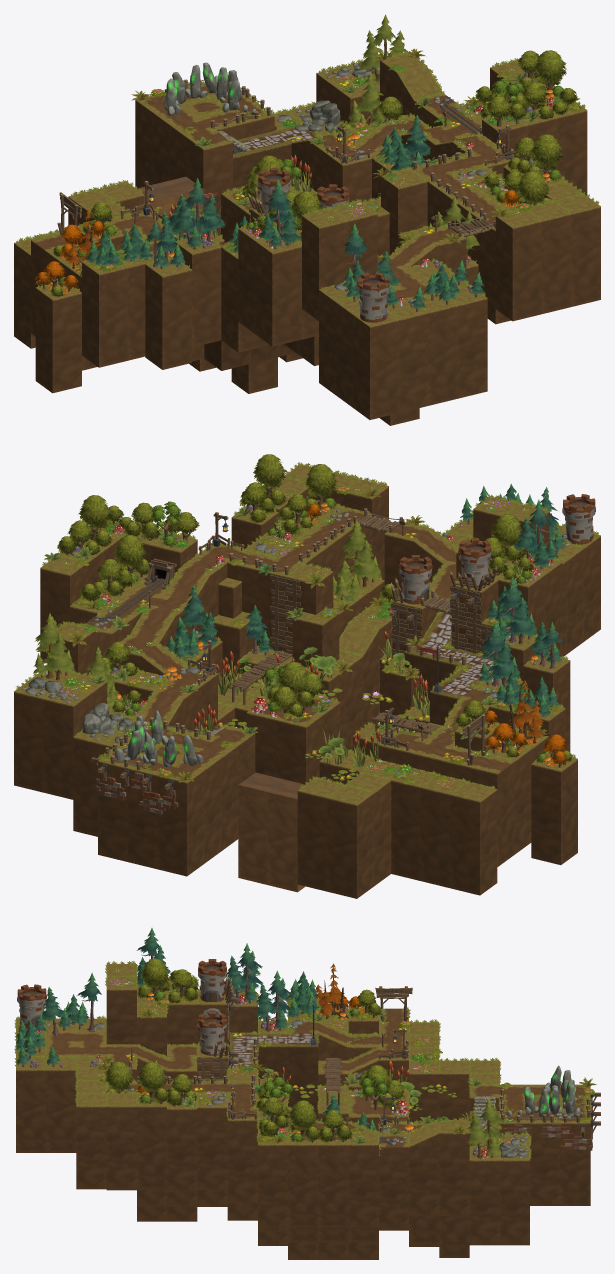
File: cenaPrincipal.glb
3 renders of one model, top to bottom at view 1: azimuth 30°, elevation 25°; view 2: azimuth 150°, elevation 25°; view 3: azimuth 270°, elevation 25°, orthographic. The views are drawn at different scales.
Visible parts, largest first — view 1: Tile_1_A.078, Tile_1_A.154, Tile_1_A.144, Tile_1_A.161, Tile_1_A.159, Tile_1_A.006, Tile_1_A.087, Tile_1_A.128, Tile_1_A.127, Tile_1_A.003, Tile_1_A.164, Tile_1_A.005 (+58 smaller); view 2: Tile_1_A.084, Tile_1_A.075, Tile_1_A.144, Tile_1_G.003, Tile_1_A.074, Tile_1_A.073, Tile_Water1 (3).002, Tile_1_A.083, Tile_Water1 (3).001, Tile_1_A.082, Tile_1_A.111, Tile_1_C.014 (+81 smaller); view 3: Tile_1_A.128, Tile_1_A.129, Tile_1_A.107, Tile_1_A.001, Tile_1_A.076, Tile_1_A.004, Tile_1_C.030, Tile_1_A.126, Tile_1_C.021, Tile_1_A.163, Tile_Ramp1A (1), Tile_1_A.137 (+55 smaller).
Part boxes in pixels (x1,y1,x2,y2): Tile_1_A.078: (495,209,541,321); Tile_1_A.154: (145,258,191,369); Tile_1_A.144: (35,282,81,393); Tile_1_A.161: (255,239,301,346); Tile_1_A.159: (82,260,128,367); Tile_1_A.006: (353,312,399,419); Tile_1_A.087: (302,209,348,320); Tile_1_A.128: (555,195,600,306); Tile_1_A.127: (530,202,571,313); Tile_1_A.003: (413,294,458,405); Tile_1_A.164: (175,235,221,347); Tile_1_A.005: (387,301,428,412); Tile_1_A.084: (450,783,497,895); Tile_1_A.075: (327,786,373,898); Tile_1_A.144: (531,752,577,864); Tile_1_G.003: (157,763,203,876); Tile_1_A.074: (43,687,90,799); Tile_1_A.073: (297,779,342,891); Tile_Water1 (3).002: (238,772,284,884); Tile_1_A.083: (421,776,465,887); Tile_Water1 (3).001: (268,779,305,892); Tile_1_A.082: (391,768,435,880); Tile_1_A.111: (14,680,50,792); Tile_1_C.014: (276,710,322,784); Tile_1_A.128: (76,1093,106,1189); Tile_1_A.129: (106,1093,136,1189); Tile_1_A.107: (439,1120,469,1215); Tile_1_A.001: (46,1057,76,1152); Tile_1_A.076: (348,1132,378,1227); Tile_1_A.004: (16,1057,46,1152); Tile_1_C.030: (227,1107,257,1203); Tile_1_A.126: (197,1094,227,1190); Tile_1_C.021: (379,1133,408,1229); Tile_1_A.163: (469,1147,499,1243); Tile_Ramp1A (1): (409,1121,439,1215); Tile_1_A.137: (288,1132,318,1227).
Size of the model in its own units: 34.78 by 17.28 by 38.81.
86 materials, 86 textured.
